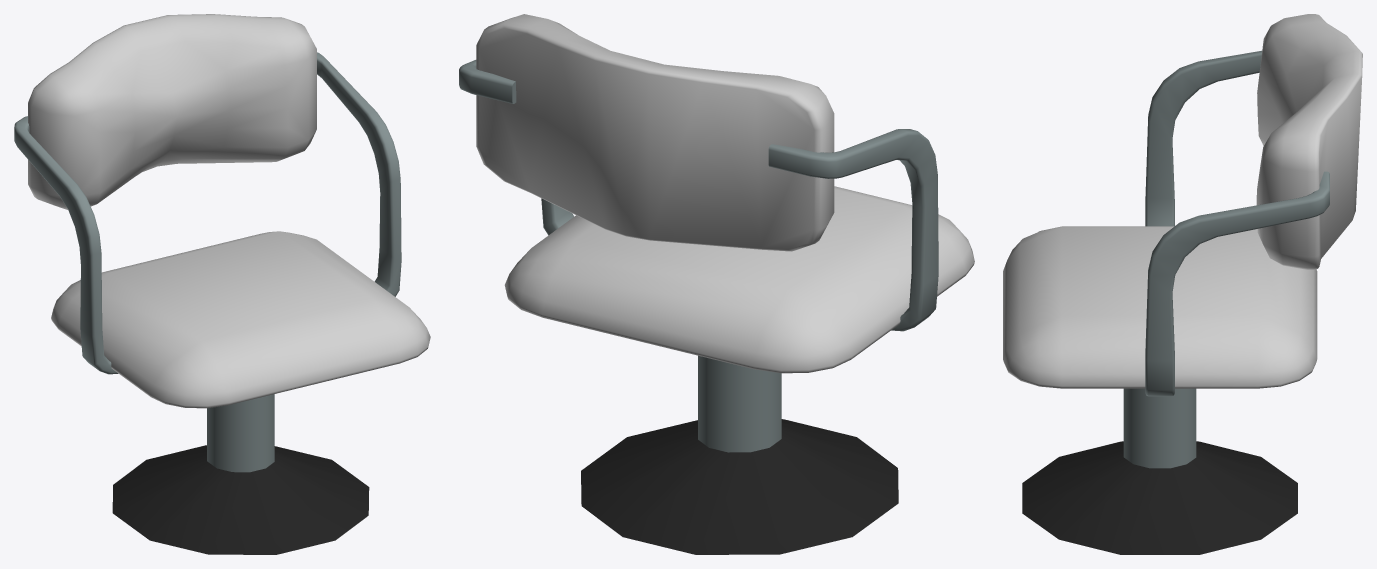
The model's file is Chair-4.fbx.
3 renders of one model, left to right at view 1: azimuth 30°, elevation 25°; view 2: azimuth 150°, elevation 25°; view 3: azimuth 270°, elevation 25°, orthographic. The views are drawn at different scales.
Parts seen in each view (by area): view 1: Chair-4; view 2: Chair-4; view 3: Chair-4.
Part boxes in pixels (x1,y1,x2,y2): Chair-4: (14, 14, 430, 554); Chair-4: (459, 14, 974, 554); Chair-4: (1003, 14, 1362, 554).
Size of the model in its own units: 0.528 by 0.6676 by 0.5.
